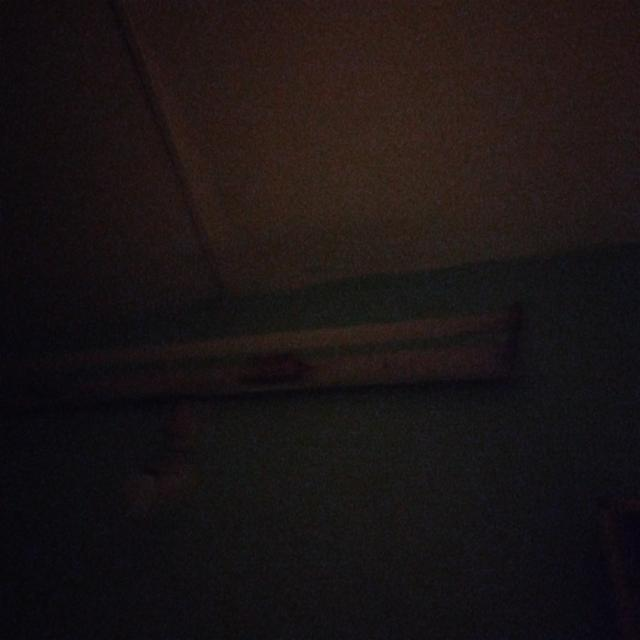tubelight_off: (3, 299, 531, 410)
